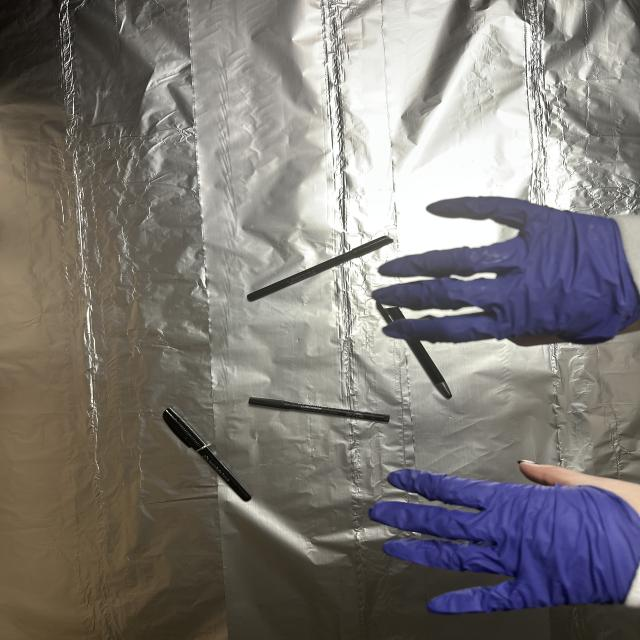glove_partial: (360, 453, 640, 614), (370, 194, 638, 352)
